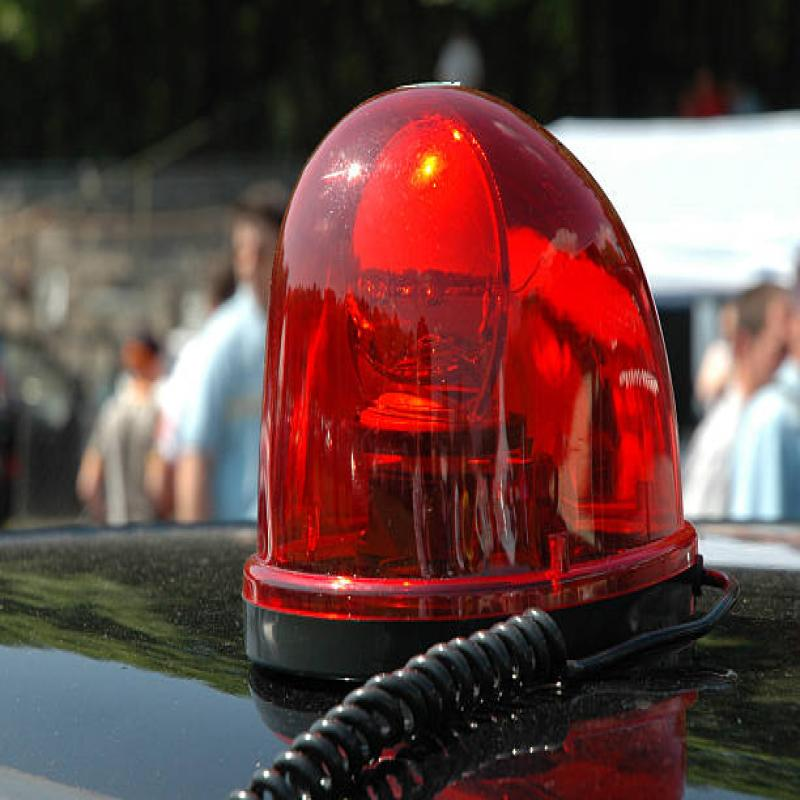AmbulanceSiren: (252, 81, 700, 656)
